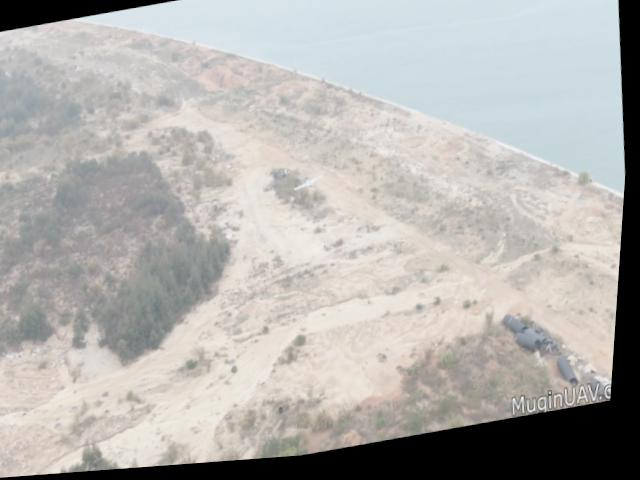plane: (295, 178, 327, 204)
